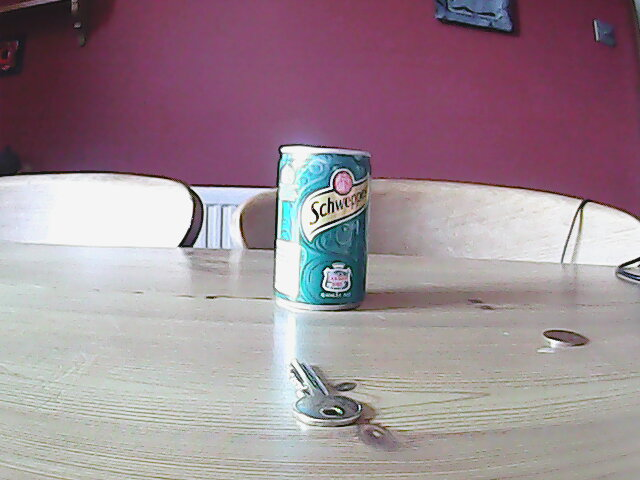Can: (270, 144, 375, 313)
Coin: (542, 326, 586, 350)
Key: (283, 356, 368, 426)
